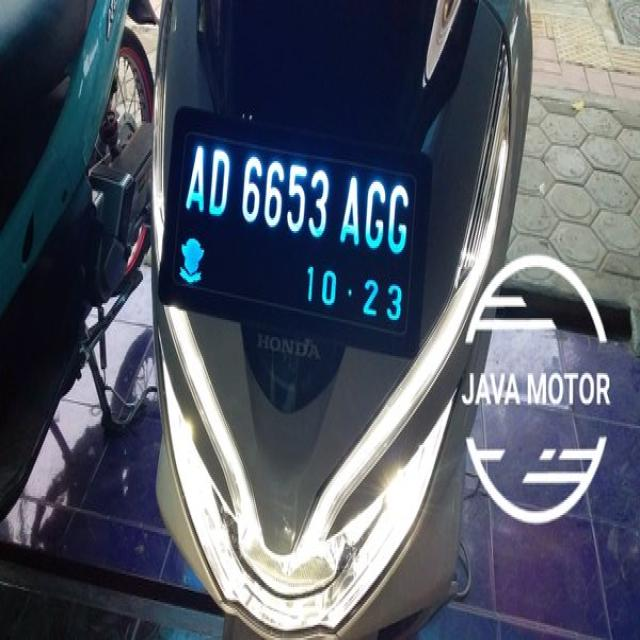plate: (179, 122, 409, 348)
